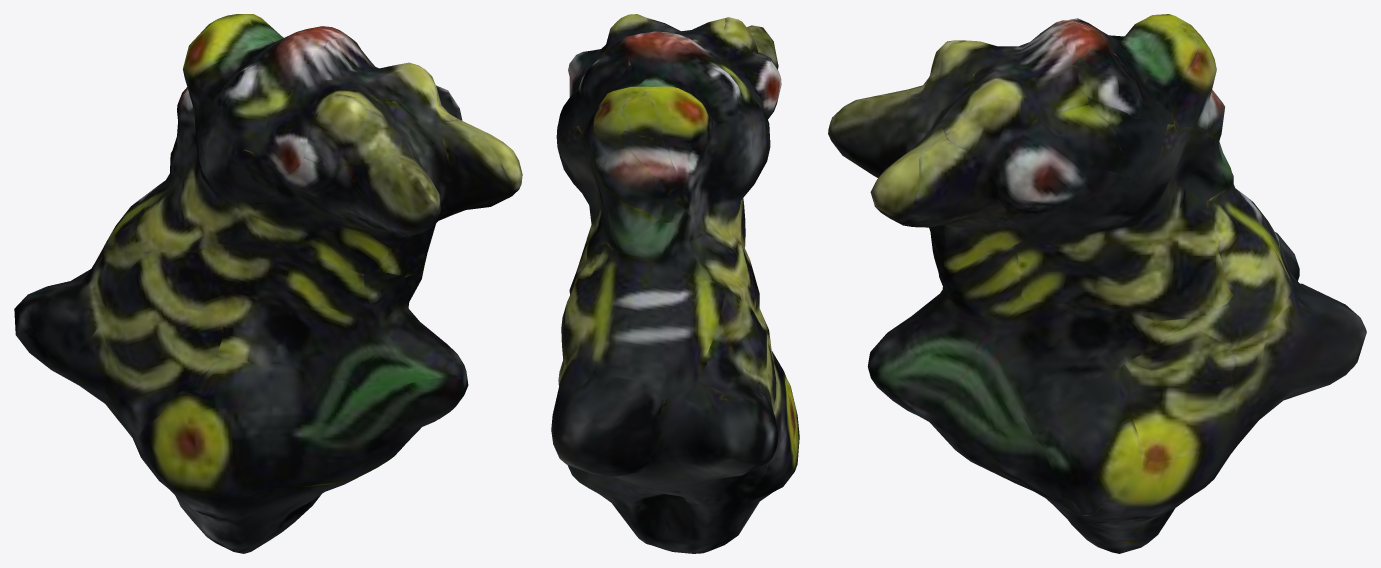
File: hall.glb
3 renders of one model, left to right at view 1: azimuth 30°, elevation 25°; view 2: azimuth 150°, elevation 25°; view 3: azimuth 270°, elevation 25°, orthographic. The views are drawn at different scales.
Bounding box in the file's own units: 0.1733 × 0.2595 × 0.2328.
Materials: 1 (1 with a texture image).
